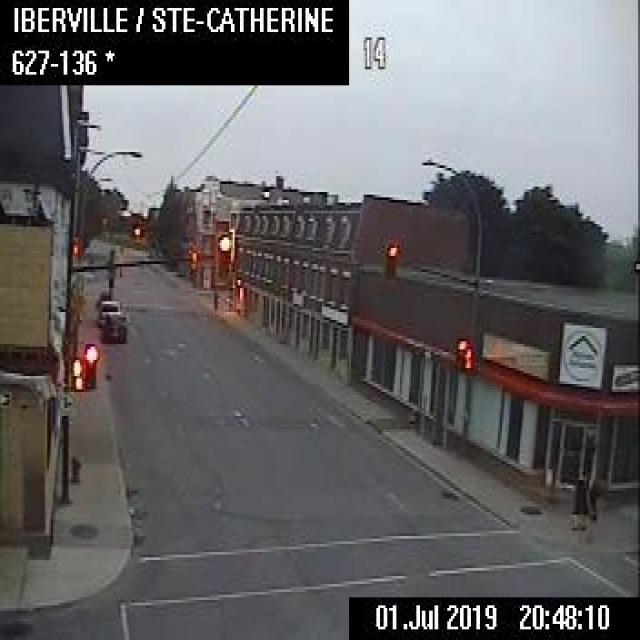pedestrian: (570, 474, 583, 530), (584, 478, 594, 528)
vehicle: (100, 313, 127, 342), (96, 298, 120, 326), (95, 286, 114, 305)
